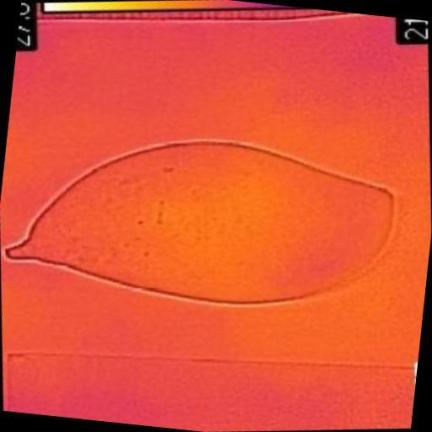mango: (4, 143, 394, 302)
